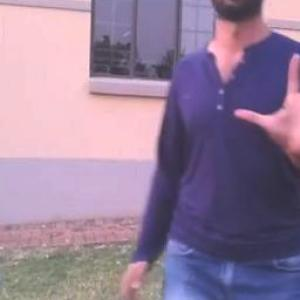follow_hand: (231, 45, 299, 169)
